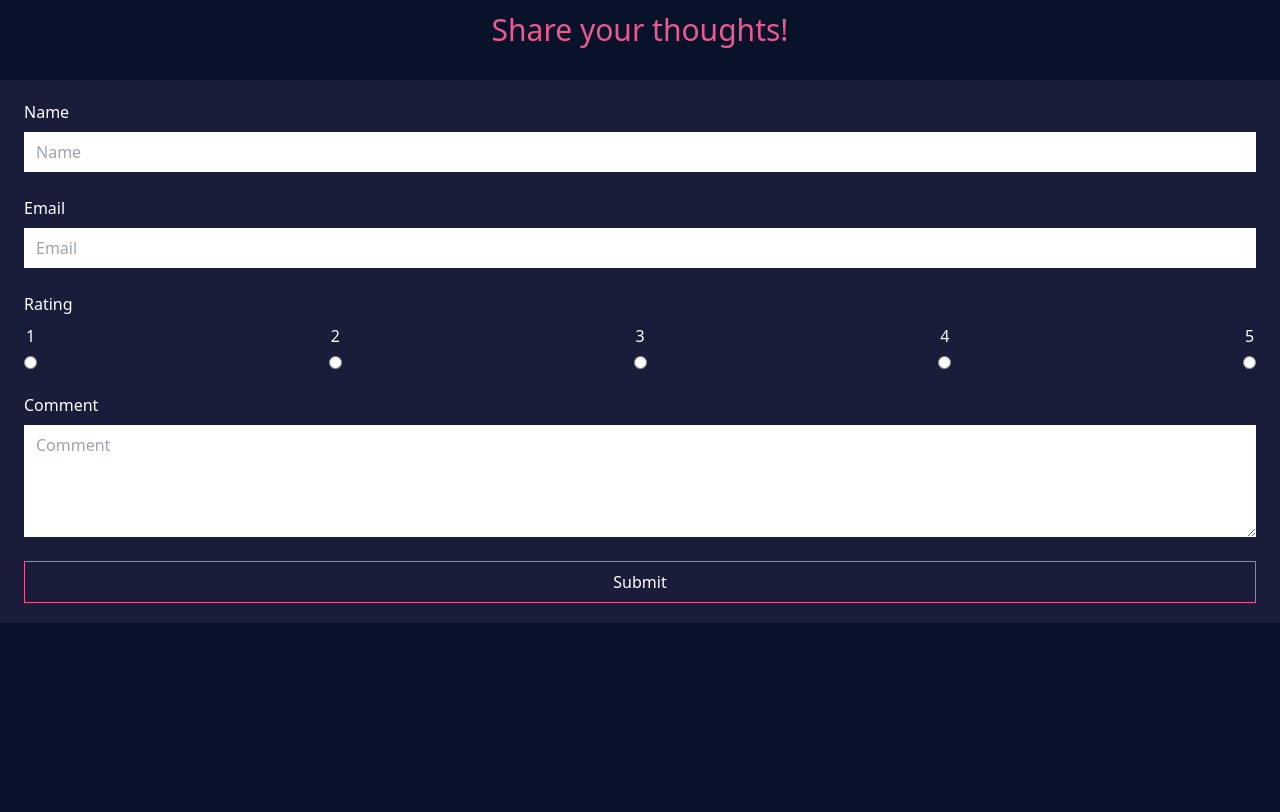
Scenario: <FeedbackForm /> › shows error when Name is less than 2 characters
In the field with test id "name": (640, 152) [24,132,1256,172], type "E"
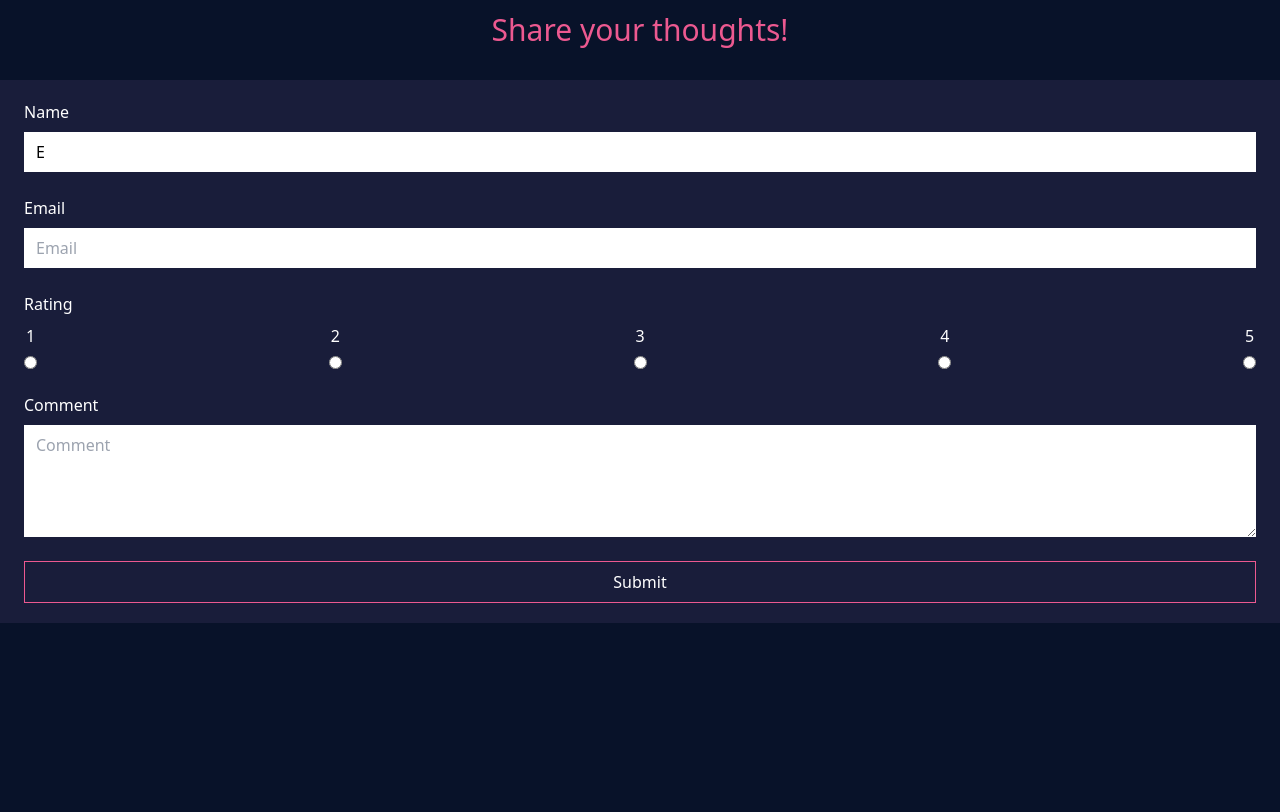
Submit the form from the button "Submit", box [24,561,1256,603]
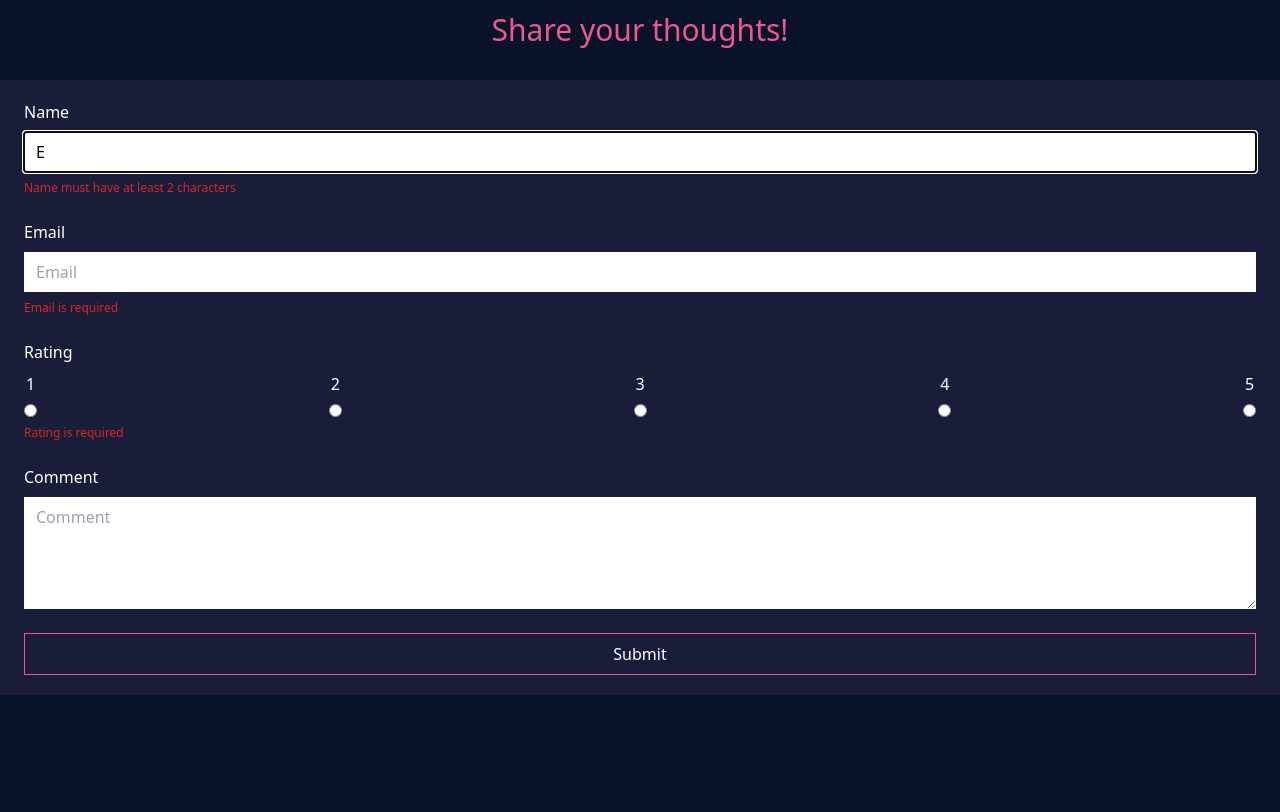
Result: the text "Name must have at least 2 characters" is shown at [24,179,236,196]
